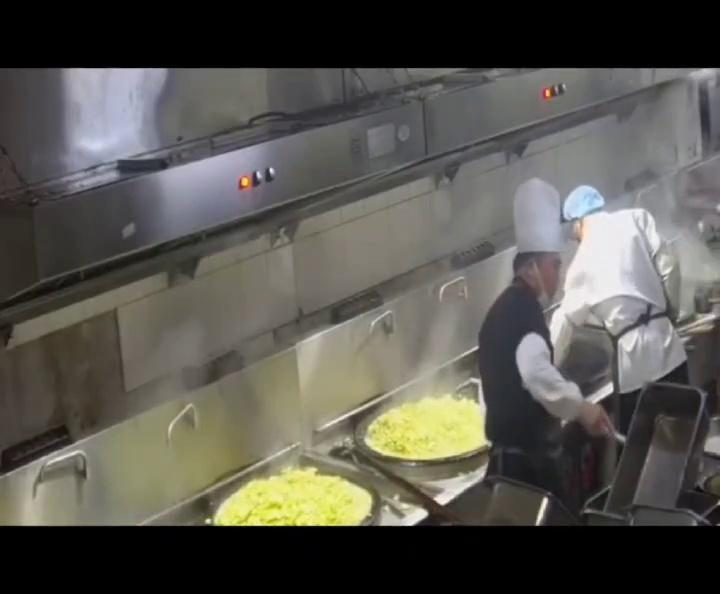mask: (536, 261, 565, 307)
